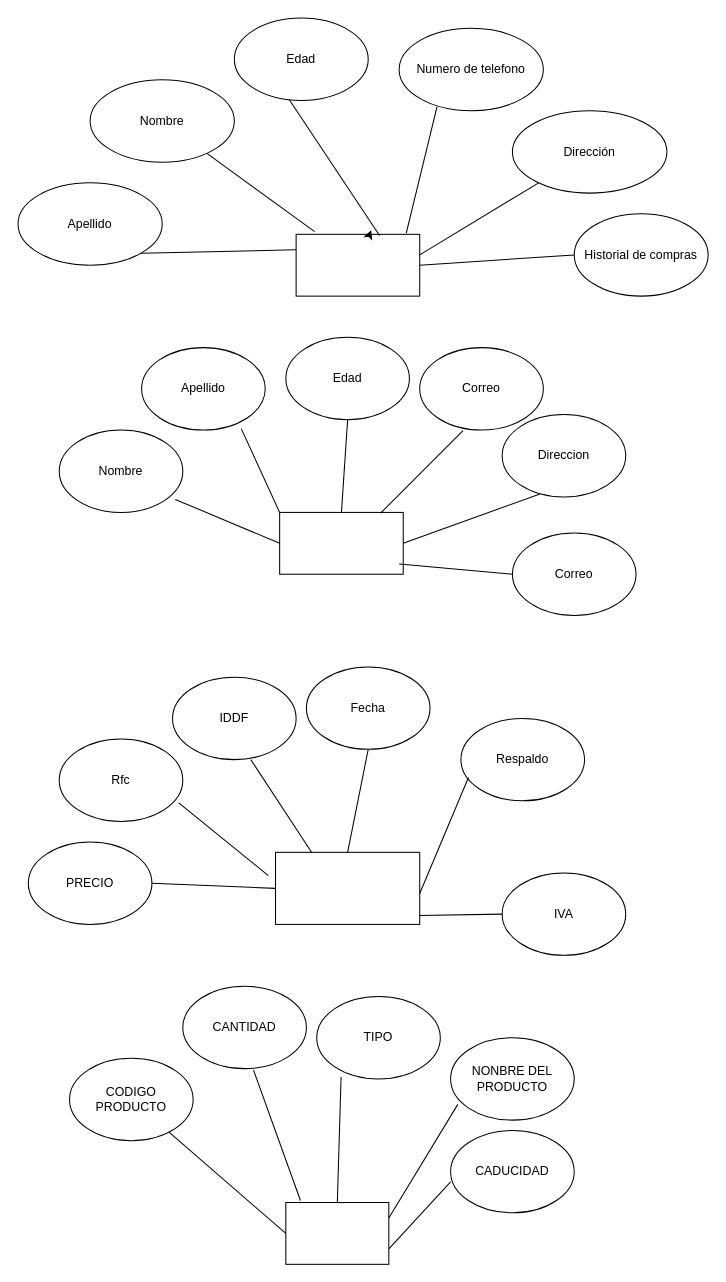
Image size: 726x1282. Some labels were removed from this diagram. The shapes that lost their labels are listed below. From the top down, each one's centre as x and y in pixels, then its label:
[357,264]: Cliente
[341,542]: Provedor
[347,887]: Factura
[337,1232]: PRODUCTO
